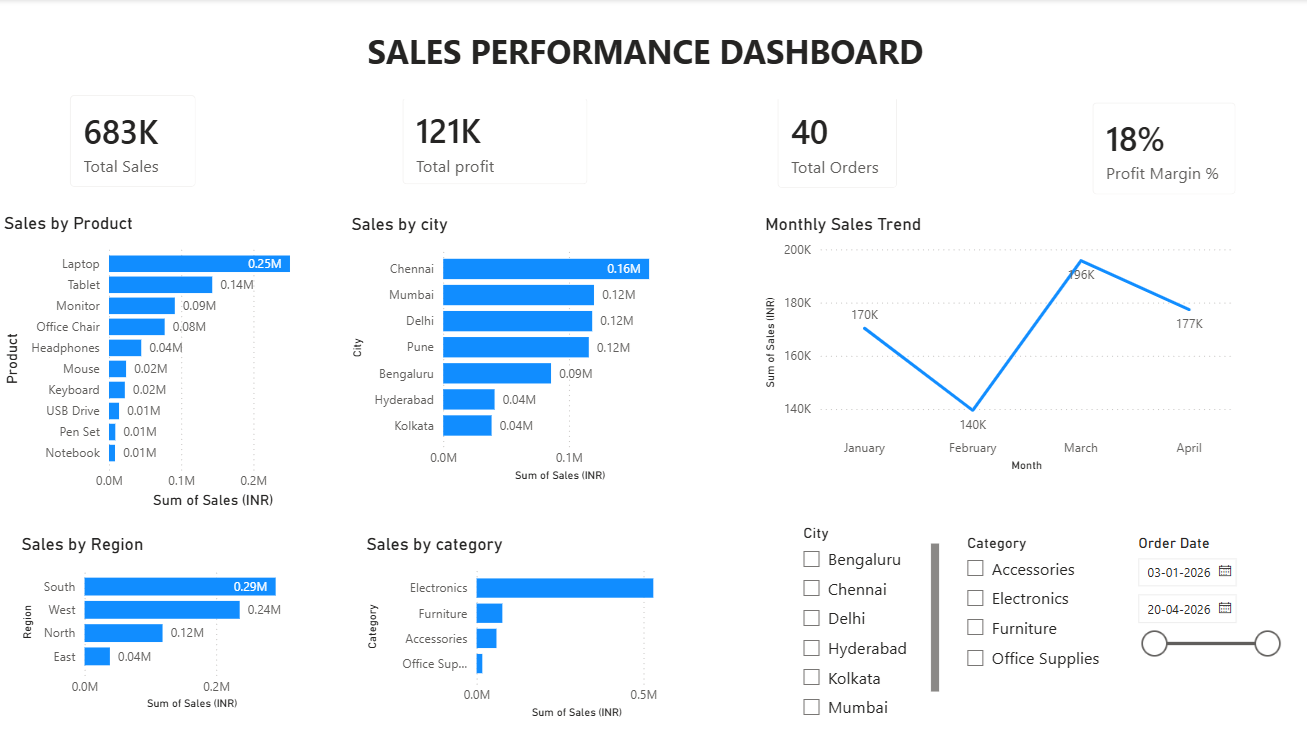

The dashboard page shown, as its layout file describes it:
{"tool":"powerbi","page":{"name":"Page 1","canvas":[1280,720],"ordinal":0},"visuals":[{"type":"cardVisual","fields":{"Data":["SalesData.Total Sales"]},"box":[52.6,77,157.7,124.7],"z":0},{"type":"cardVisual","fields":{"Data":["SalesData.Total profit"]},"box":[377.9,79.5,215.2,119.8],"z":1000},{"type":"cardVisual","fields":{"Data":["SalesData.Total Orders"]},"box":[744.7,77,151.6,126],"z":2000},{"type":"cardVisual","fields":{"Data":["SalesData.Profit Margin %"]},"box":[1052.9,84.4,174.9,124.7],"z":3000},{"type":"clusteredBarChart","title":"Sales by Product","fields":{"Category":["SalesData.Product"],"Y":["Sum(SalesData.Sales (INR))"]},"box":[0,209.1,330.2,294.7],"z":4000},{"type":"lineChart","title":"Monthly Sales Trend","fields":{"Y":["Sum(SalesData.Sales (INR))"],"Category":["SalesData.Order Date.Variation.Date Hierarchy.Month"]},"box":[744.7,210.3,467.1,256.8],"z":5000},{"type":"clusteredBarChart","title":"Sales by Region","fields":{"Category":["SalesData.Region"],"Y":["Sum(SalesData.Sales (INR))"]},"box":[17.1,523.4,295.9,177.3],"z":6000},{"type":"slicer","fields":{"Values":["SalesData.City"]},"box":[774.1,508.7,150.4,200.5],"z":7000},{"type":"slicer","fields":{"Values":["SalesData.Category"]},"box":[934.2,518.5,167.5,149.2],"z":8000},{"type":"slicer","fields":{"Values":["SalesData.Order Date"]},"box":[1101.8,518.5,160.2,176.1],"z":9000},{"type":"clusteredBarChart","title":"Sales by city","fields":{"Category":["SalesData.City"],"Y":["Sum(SalesData.Sales (INR))"]},"box":[339.9,210.3,342.4,266.6],"z":10000},{"type":"textbox","box":[330.2,24.5,604.1,73.4],"z":10001},{"type":"clusteredBarChart","title":"Sales by category","fields":{"Category":["SalesData.Category"],"Y":["Sum(SalesData.Sales (INR))"]},"box":[354.6,523.4,327.7,185.9],"z":10002}]}

Visuals, with their boxes in screenshot pixels (x1, y1, x2, y2), scaled from the page's 1280x720 canvas onto the 1307x733 screenshot:
cardVisual - SalesData.Total Sales: <box>54,78,215,205</box>
cardVisual - SalesData.Total profit: <box>386,81,606,203</box>
cardVisual - SalesData.Total Orders: <box>760,78,915,207</box>
cardVisual - SalesData.Profit Margin %: <box>1075,86,1254,213</box>
"Sales by Product" clusteredBarChart: <box>0,213,337,513</box>
"Monthly Sales Trend" lineChart: <box>760,214,1237,476</box>
"Sales by Region" clusteredBarChart: <box>17,533,320,713</box>
slicer - SalesData.City: <box>790,518,944,722</box>
slicer - SalesData.Category: <box>954,528,1125,680</box>
slicer - SalesData.Order Date: <box>1125,528,1289,707</box>
"Sales by city" clusteredBarChart: <box>347,214,697,486</box>
textbox: <box>337,25,954,100</box>
"Sales by category" clusteredBarChart: <box>362,533,697,722</box>
